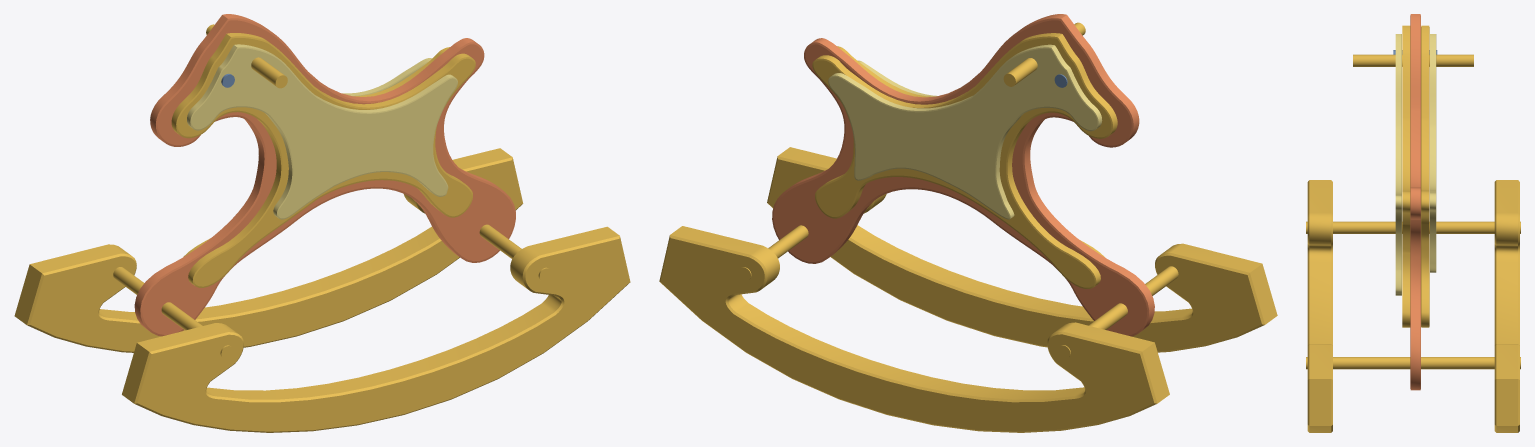
The model's file is sh_blend_swap_cc_0_caballito.glb.
3 views of the same model, side by side, from view 1: azimuth 30°, elevation 25°; view 2: azimuth 150°, elevation 25°; view 3: azimuth 270°, elevation 25° (orthographic). The views are drawn at different scales.
Bounding box in the file's own units: 0.6765 × 0.498 × 0.291.
